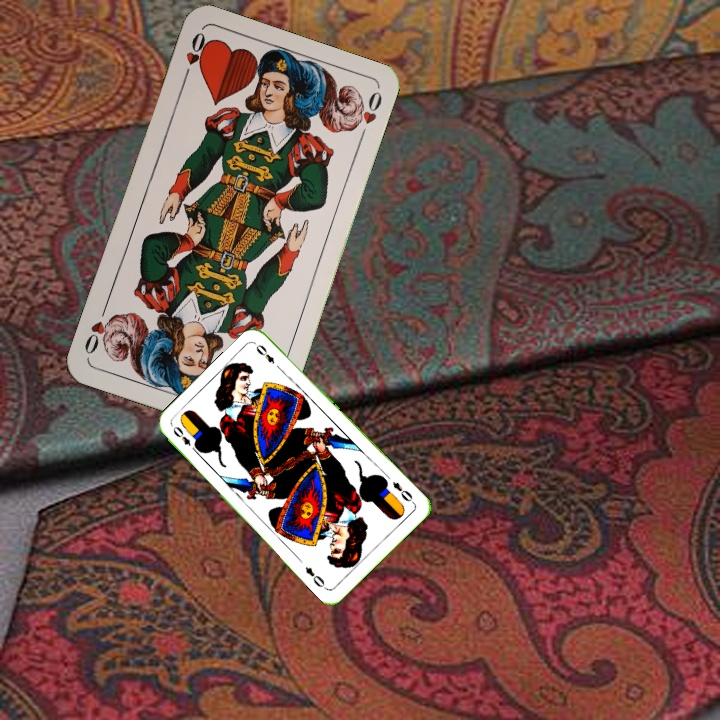EO: (169, 422, 201, 455), (388, 478, 417, 506)
HO: (179, 27, 210, 85)
